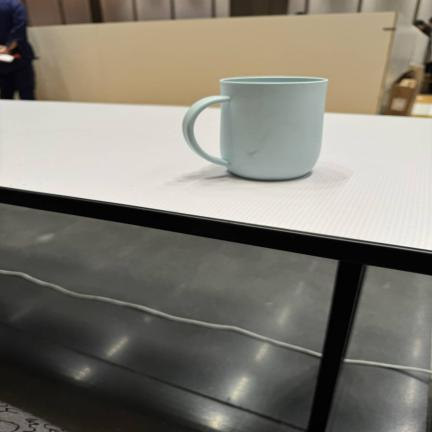cup: (194, 103, 222, 158)
